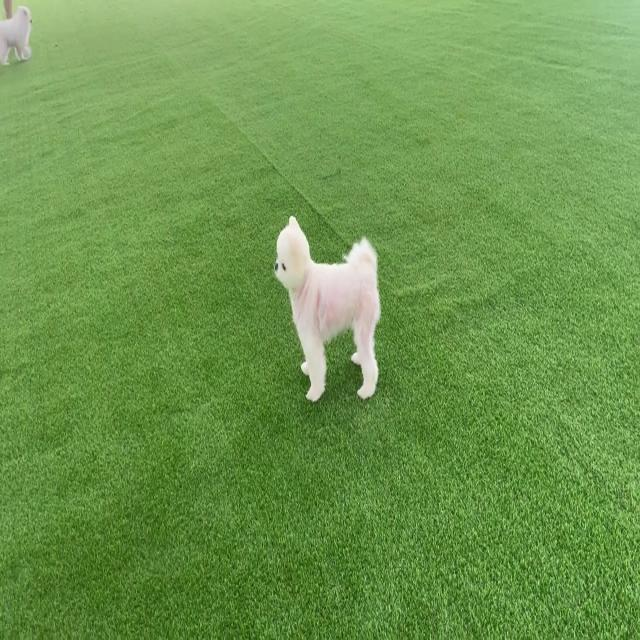Dog: (273, 214, 381, 404), (0, 5, 33, 67)
